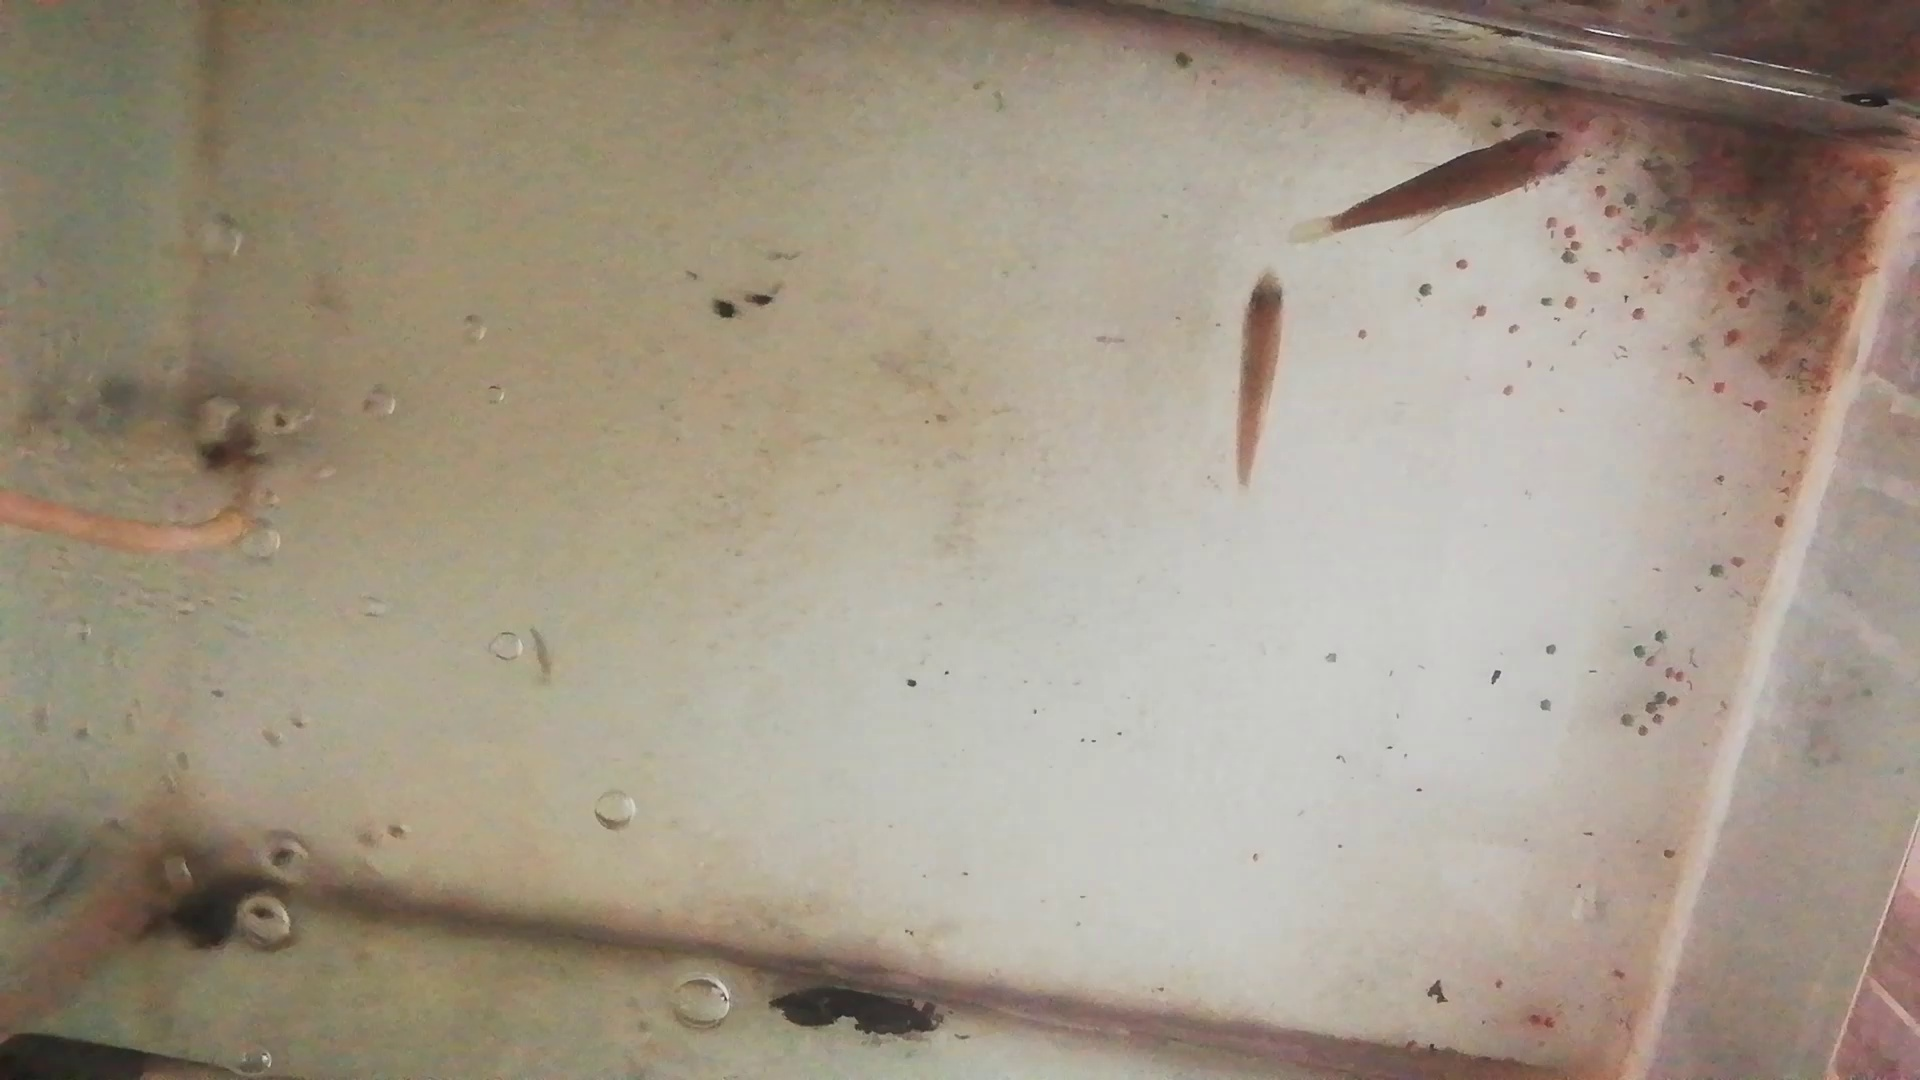fish: (1337, 128, 1584, 232), (1238, 273, 1286, 483)
